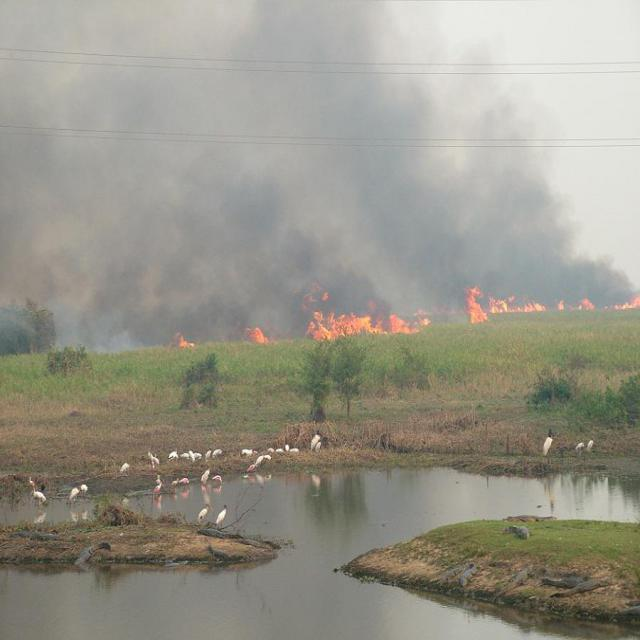Fire: (297, 300, 429, 336), (460, 282, 546, 330), (171, 330, 201, 352), (608, 291, 640, 309), (244, 324, 270, 346), (578, 298, 596, 312), (551, 296, 565, 312)
